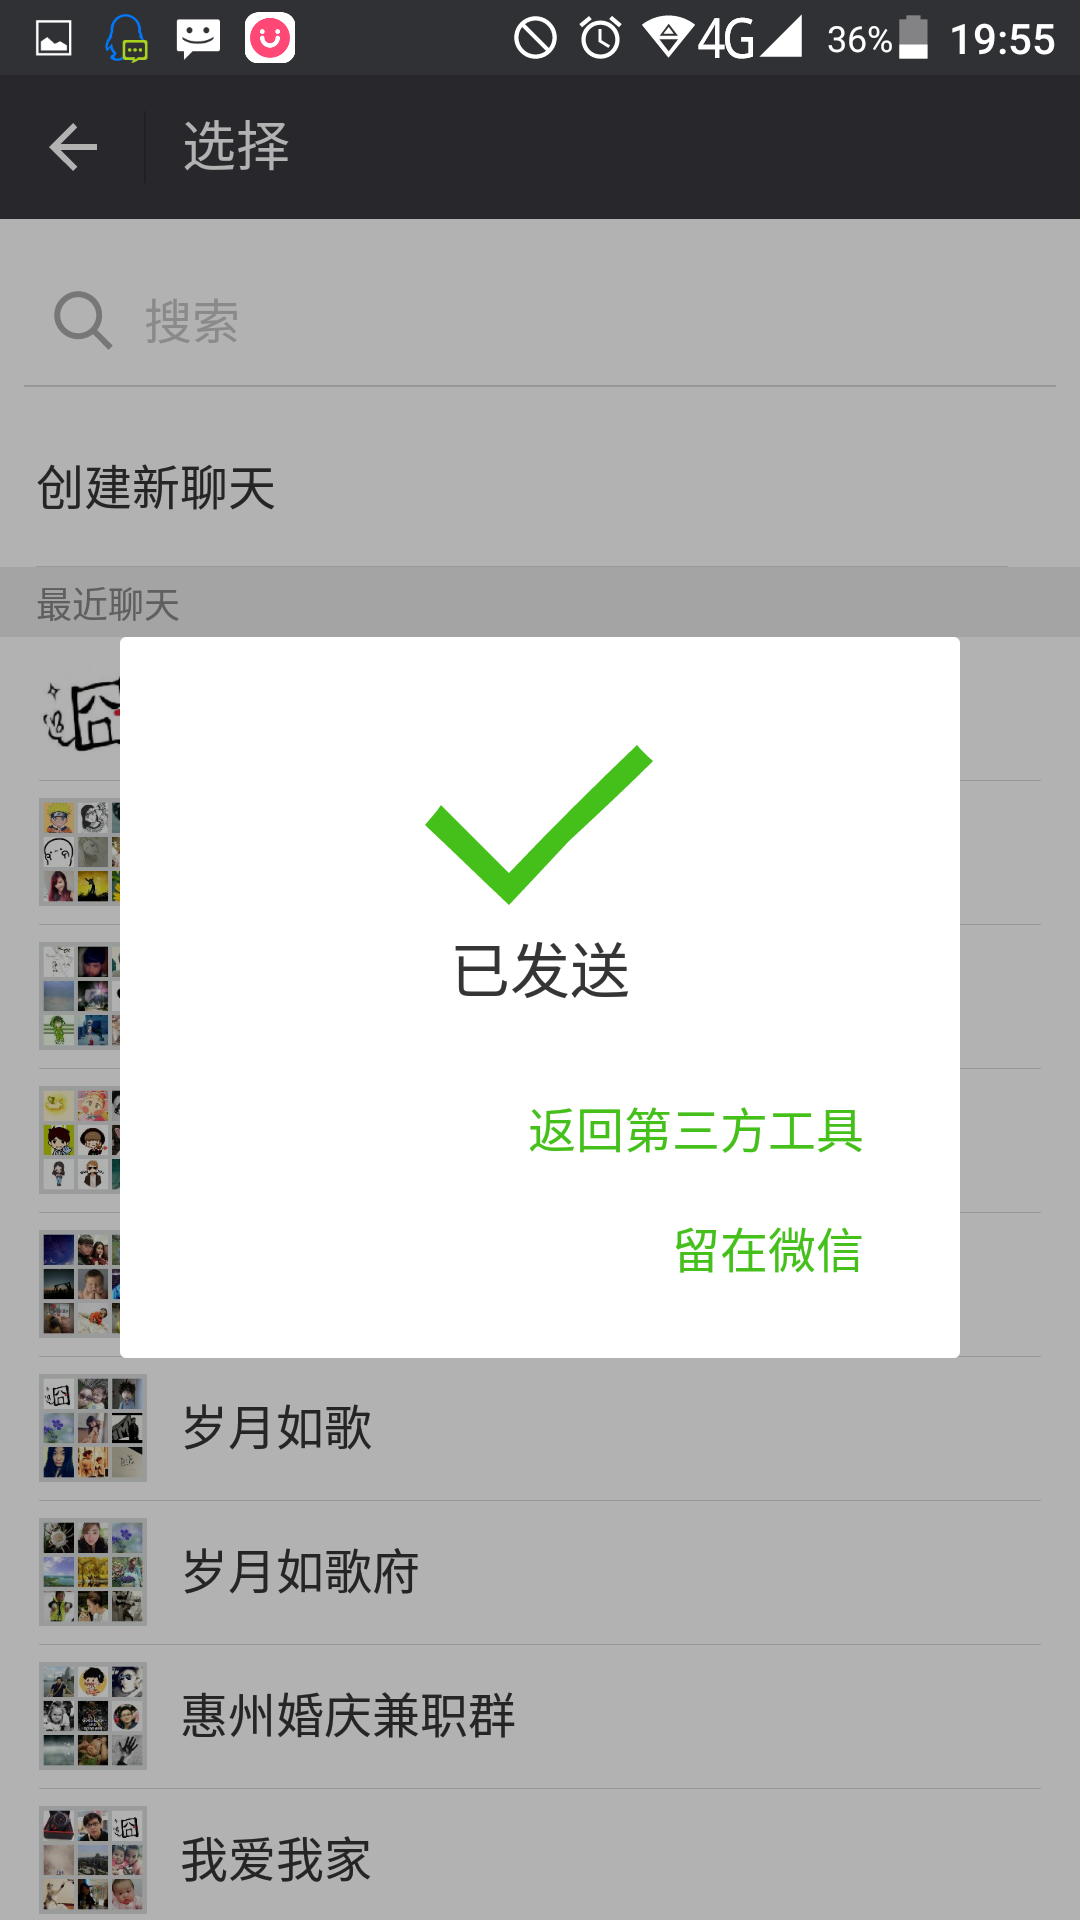alert: (112, 632, 980, 1378)
imgview: (398, 690, 661, 924)
textview: (514, 1092, 886, 1290), (410, 934, 649, 1014)
